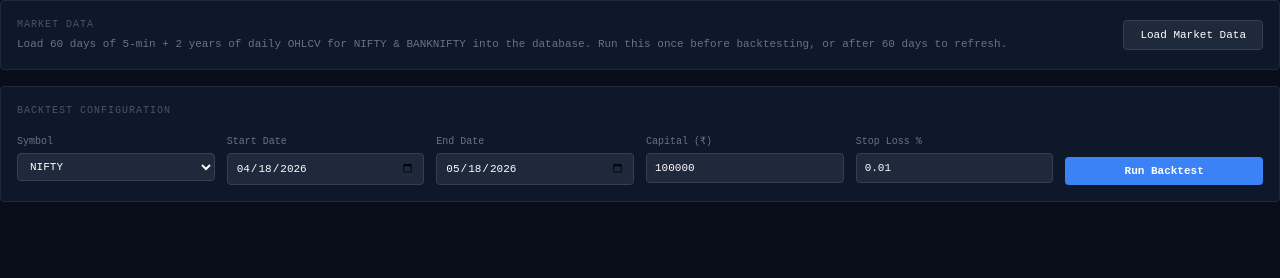
BacktestTab › shows error message when POST fails
This screenshot has width=1280, height=278.
Click the button "Run Backtest". click: (1164, 171)
box: [1065,156,1263,185]
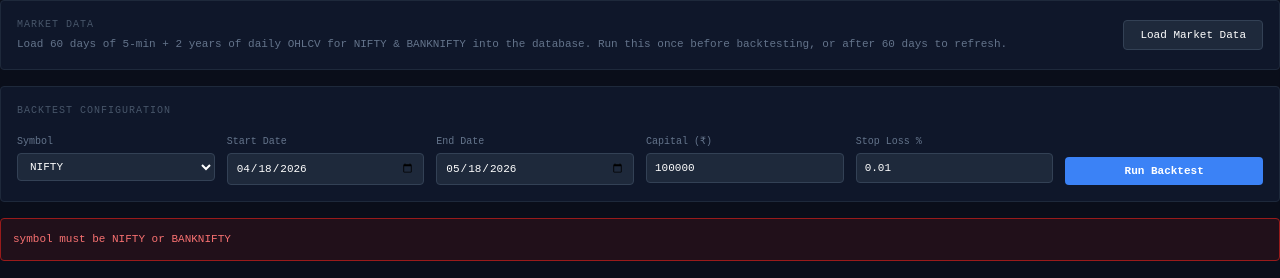
Expected: the text "symbol must be NIFTY or BANKNIFTY" is shown, [0,218,1279,260]
